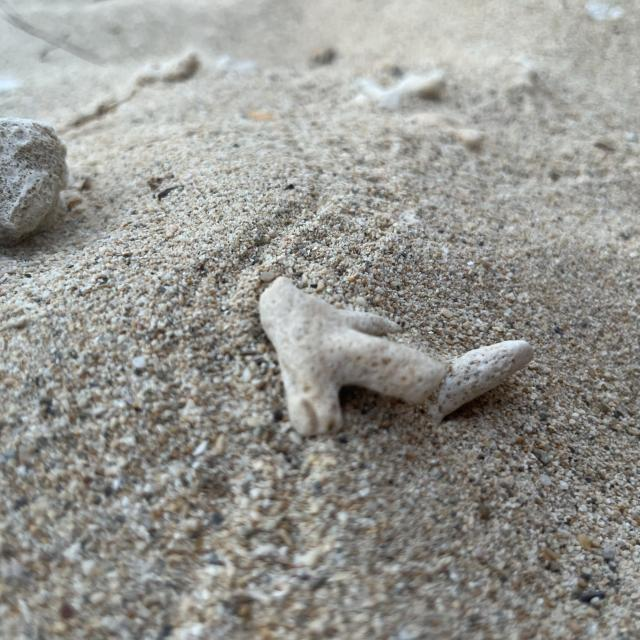coral: (246, 254, 536, 457)
rock: (0, 116, 79, 251)
